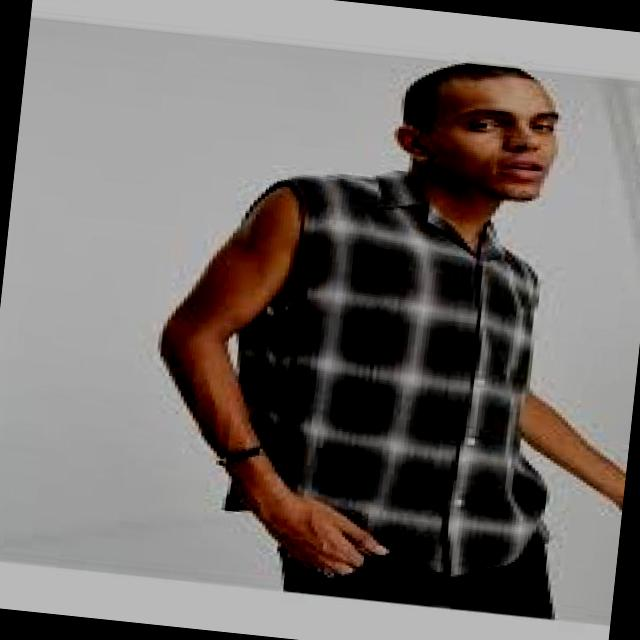no_vest: (219, 154, 600, 586)
